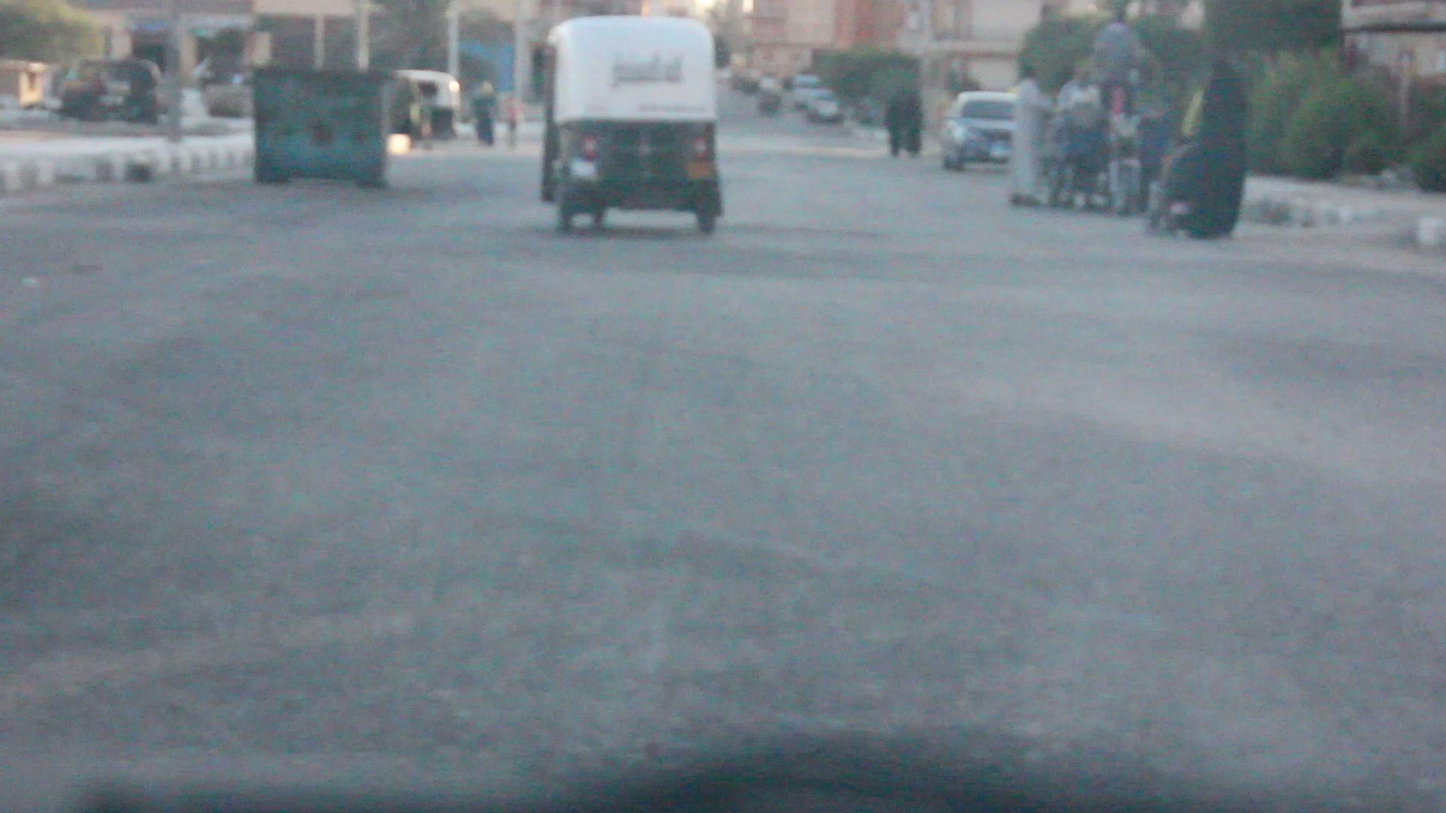Bump: (8, 220, 1446, 316)
